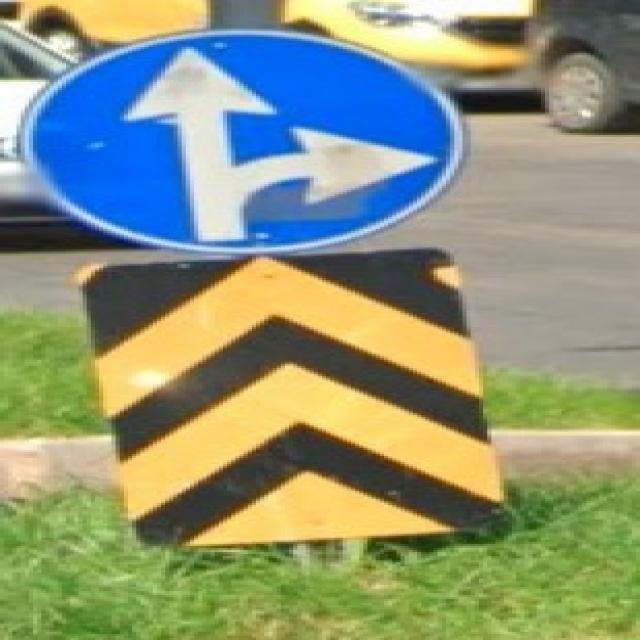Straight or Right: (32, 28, 453, 244)
